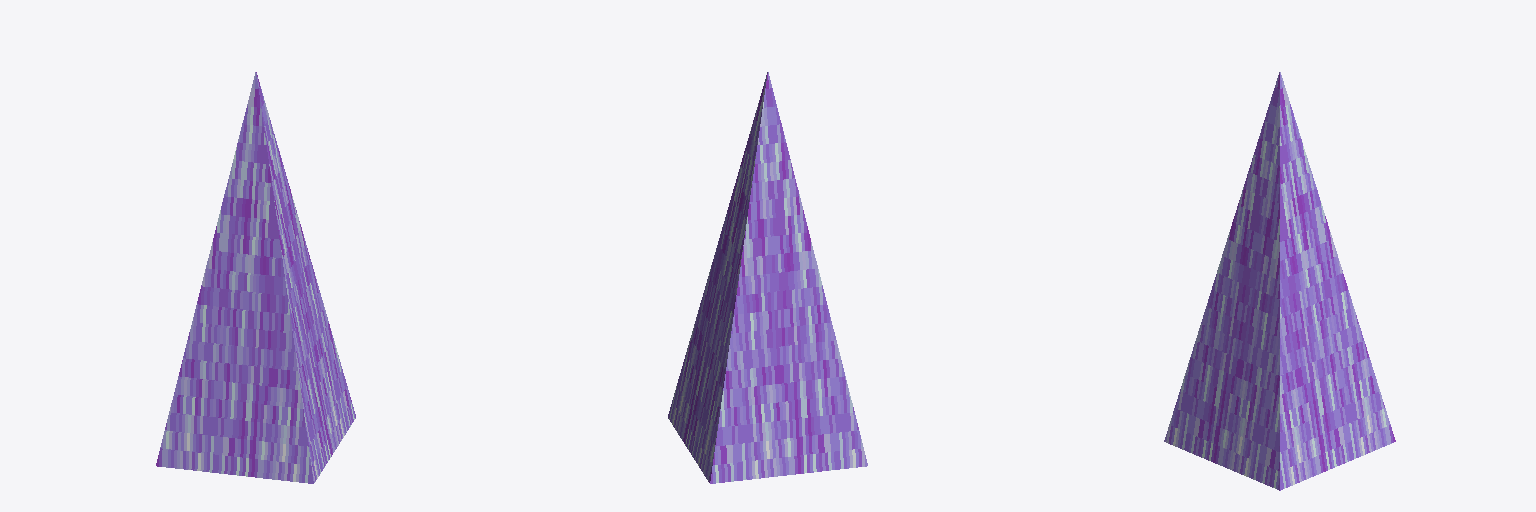
3 views of the same model, side by side, from view 1: azimuth 30°, elevation 25°; view 2: azimuth 150°, elevation 25°; view 3: azimuth 270°, elevation 25° (orthographic).
Visible parts, largest first — view 1: Nemu_[number redacted]_0_1; view 2: Nemu_[number redacted]_0_1; view 3: Nemu_[number redacted]_0_1.
Part boxes in pixels (left/top/right/bottom): Nemu_[number redacted]_0_1: left=156, top=72, right=355, bottom=483; Nemu_[number redacted]_0_1: left=668, top=72, right=867, bottom=483; Nemu_[number redacted]_0_1: left=1164, top=72, right=1395, bottom=490.
Bounding box in the file's own units: 142 × 251 × 142.
Materials: 1 (1 with a texture image).